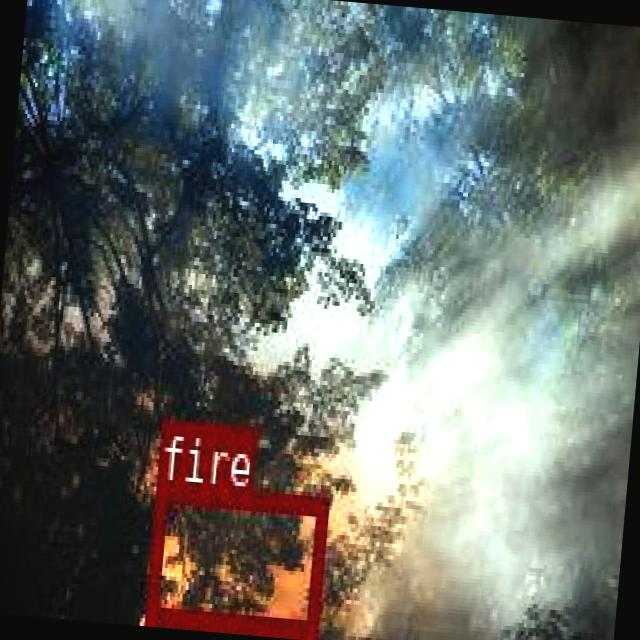fire: (143, 482, 324, 633)
